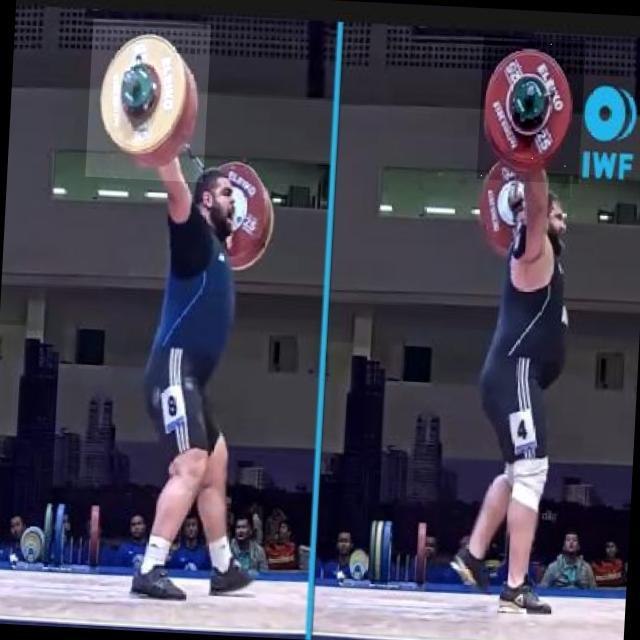barbell: (86, 20, 212, 184), (478, 37, 587, 186)
